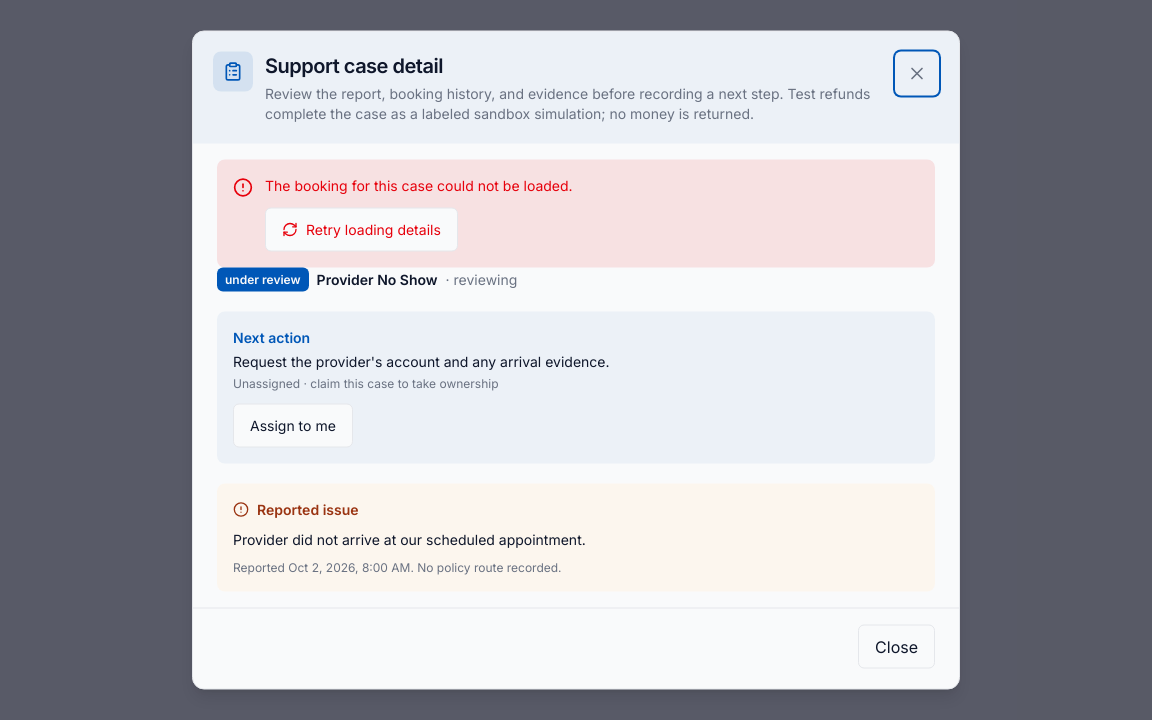
Test: AdminCaseDetailDialog › offers a retry when booking details fail to load
expect the message shows "The booking for this case could not be loaded.": met, box [265,176,573,194]
Click the button "Retry loading details" at (361, 230), box [265,208,458,252]
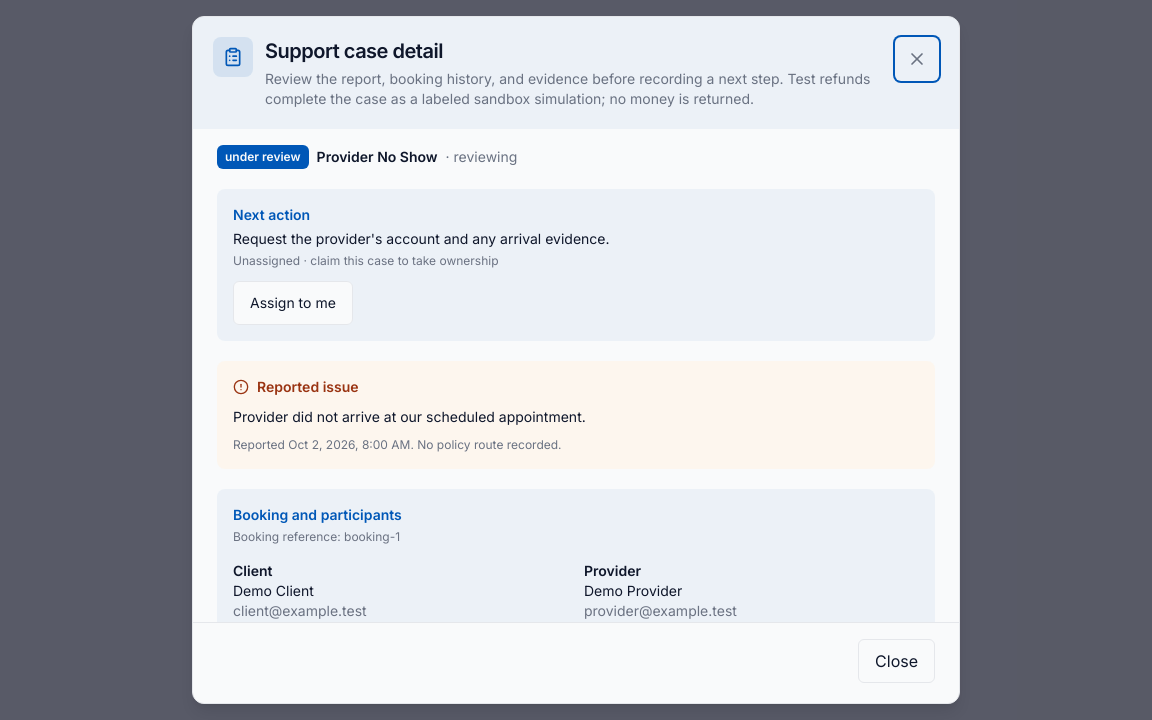
expect the text "Demo Provider" is shown: met, box [584,582,682,599]
